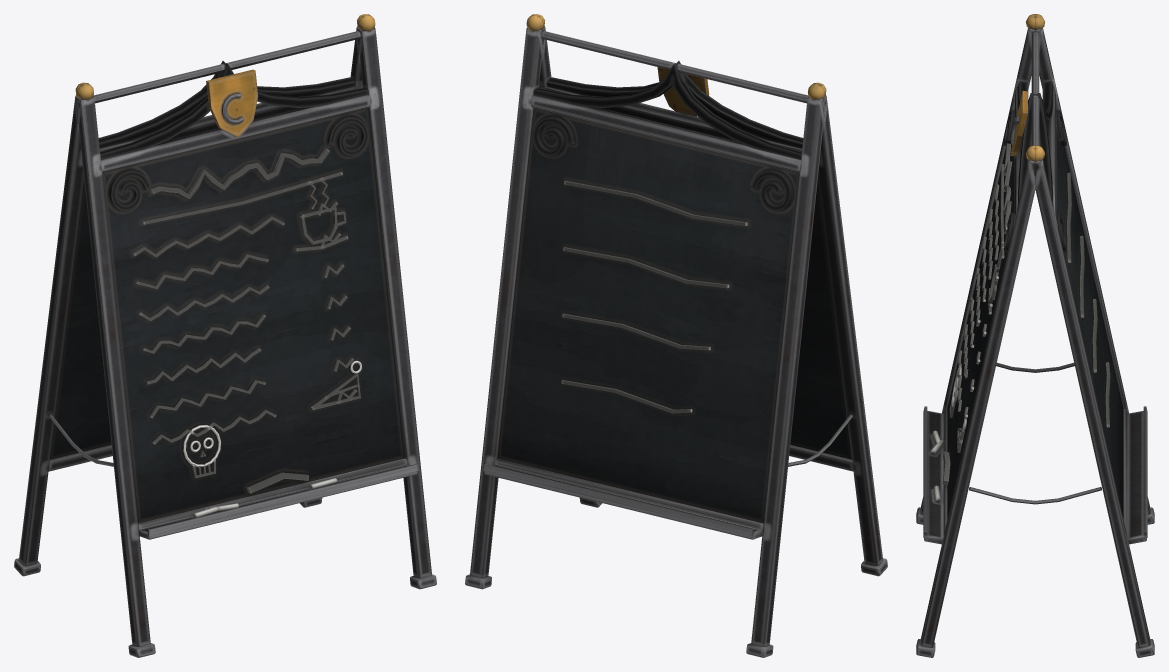
File: ChalkMenuStand.fbx
3 views of the same model, side by side, from view 1: azimuth 30°, elevation 25°; view 2: azimuth 150°, elevation 25°; view 3: azimuth 270°, elevation 25° (orthographic). The views are drawn at different scales.
Parts seen in each view (by area): view 1: ChalkMenuStand; view 2: ChalkMenuStand; view 3: ChalkMenuStand.
Part boxes in pixels (bbox=[...]): ChalkMenuStand: bbox=[14, 14, 436, 657]; ChalkMenuStand: bbox=[465, 14, 887, 657]; ChalkMenuStand: bbox=[916, 14, 1154, 657].
Bounding box in the file's own units: 256 × 432 × 184.
